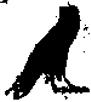Owl: (4, 4, 86, 100)
